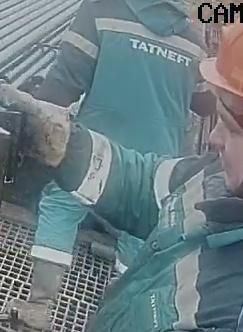gloves: (0, 84, 95, 173)
helmet: (181, 23, 243, 121)
vest: (81, 151, 242, 331), (73, 0, 197, 132)
